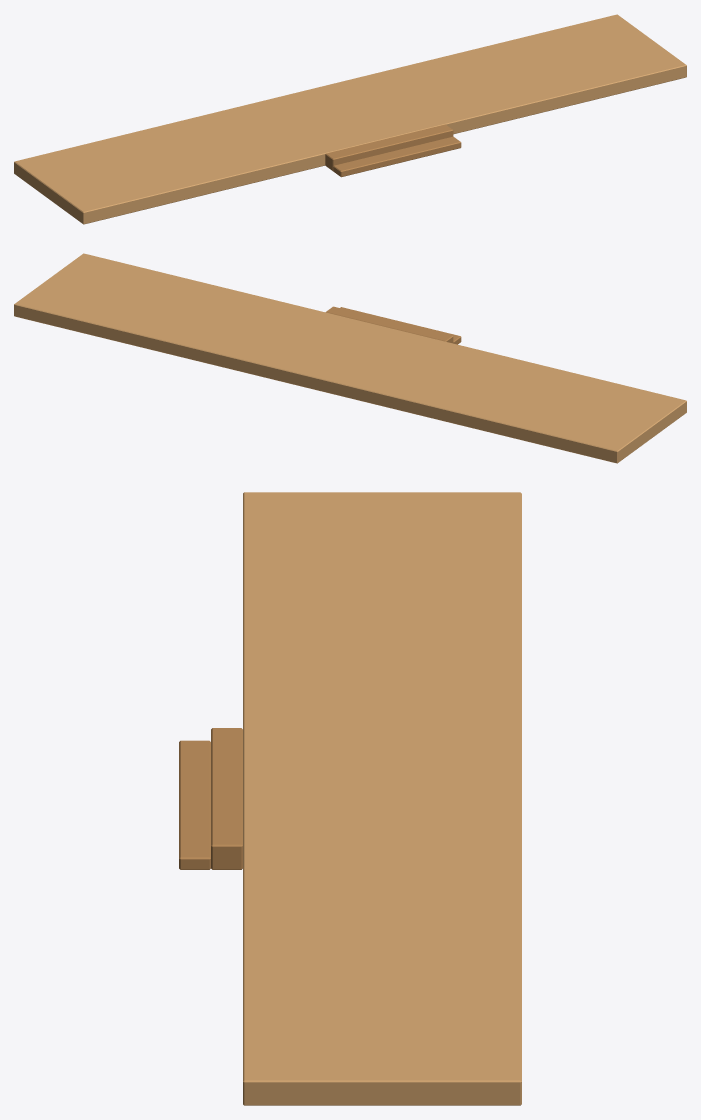
The model's file is teaching-platform.glb.
The picture shows the model from 3 angles, top to bottom: view 1: azimuth 30°, elevation 25°; view 2: azimuth 150°, elevation 25°; view 3: azimuth 270°, elevation 25°; orthographic projection. The views are drawn at different scales.
Visible parts, largest first — view 1: teaching_platform; view 2: teaching_platform; view 3: teaching_platform.
Boxes of the visible parts, left/top/right/bottom form: teaching_platform: left=14, top=14, right=686, bottom=224; teaching_platform: left=14, top=253, right=686, bottom=463; teaching_platform: left=179, top=492, right=521, bottom=1105.
Bounding box in the file's own units: 14 × 0.28 × 3.44.
